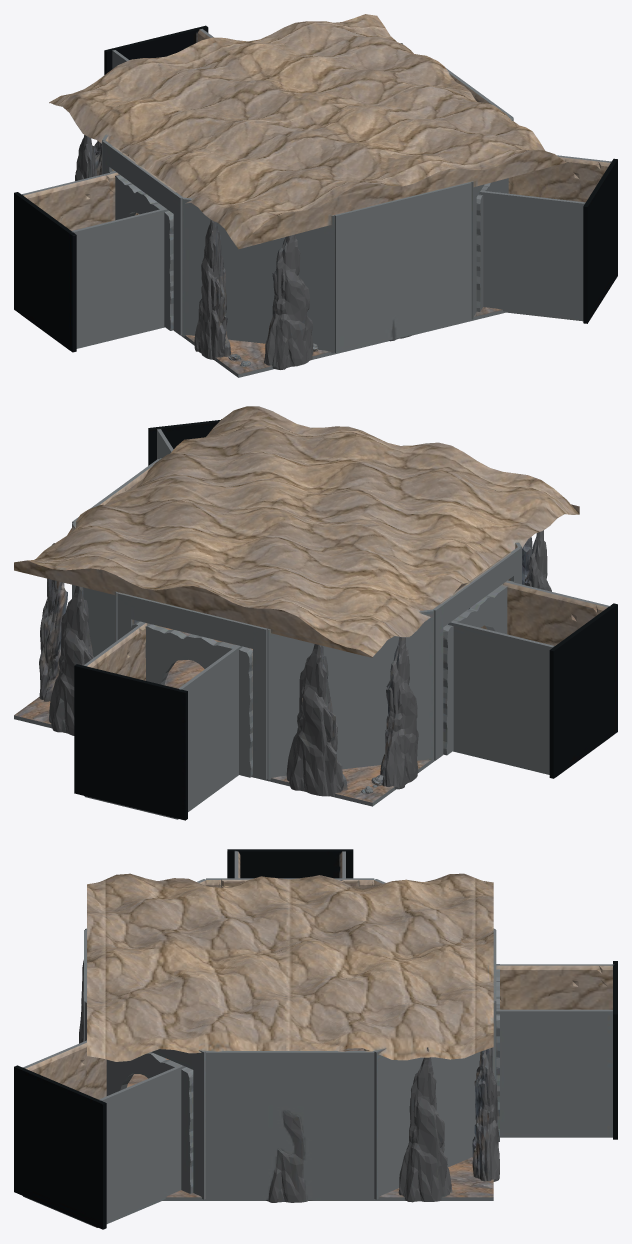
File: room.glb
The picture shows the model from 3 angles, top to bottom: view 1: azimuth 30°, elevation 25°; view 2: azimuth 150°, elevation 25°; view 3: azimuth 270°, elevation 25°; orthographic projection. The views are drawn at different scales.
Visible parts, largest first — view 1: COOL-ROOM; view 2: COOL-ROOM; view 3: COOL-ROOM.
Boxes of the visible parts, box(x1,y1,x2,y2) form: COOL-ROOM: box(14, 14, 617, 377); COOL-ROOM: box(14, 406, 617, 820); COOL-ROOM: box(14, 849, 617, 1229).
Size of the model in its own units: 14.86 by 4.79 by 14.86.
1 material, 1 textured.
